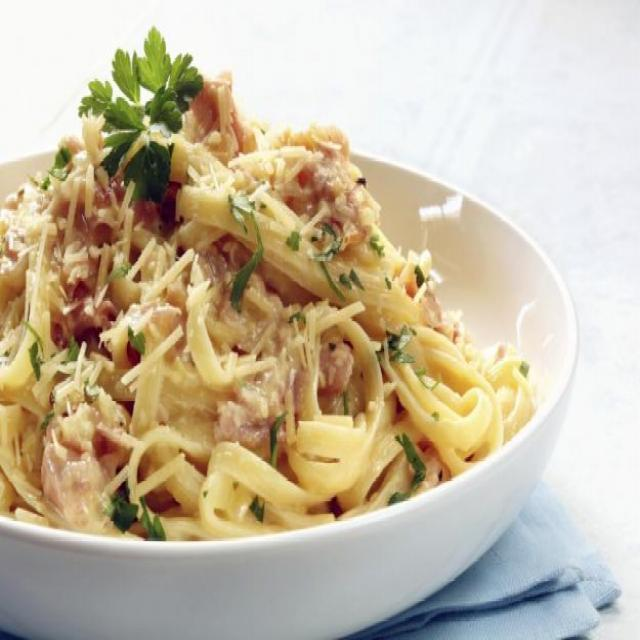Pasta with carbonara sauce: (1, 20, 597, 557)
